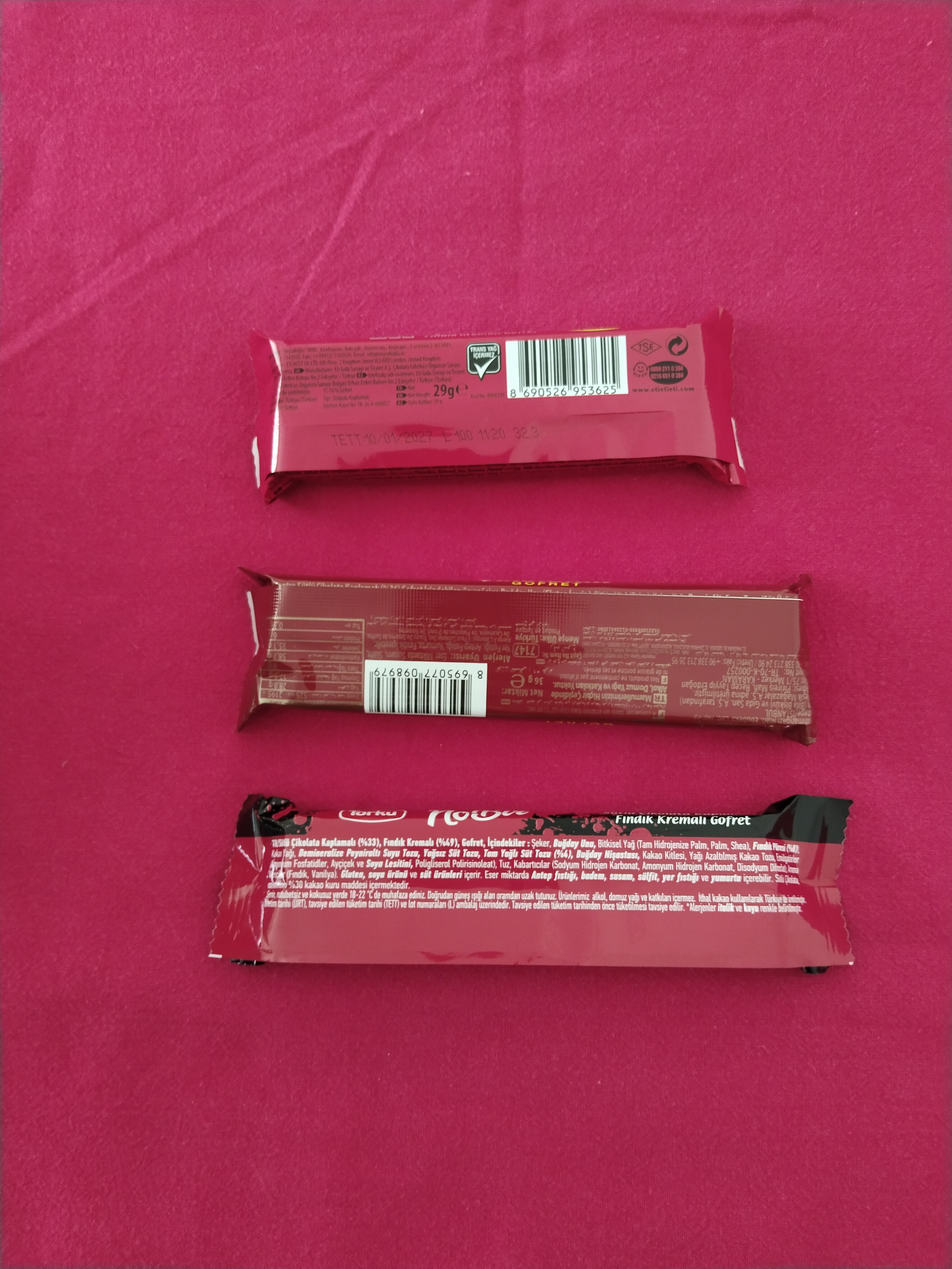cafex_kahve: (240, 567, 813, 739)
eti_crax_cubuk_kraker: (250, 310, 746, 500)
pensan_siyah_tukenmez_kalem: (213, 790, 853, 971)
